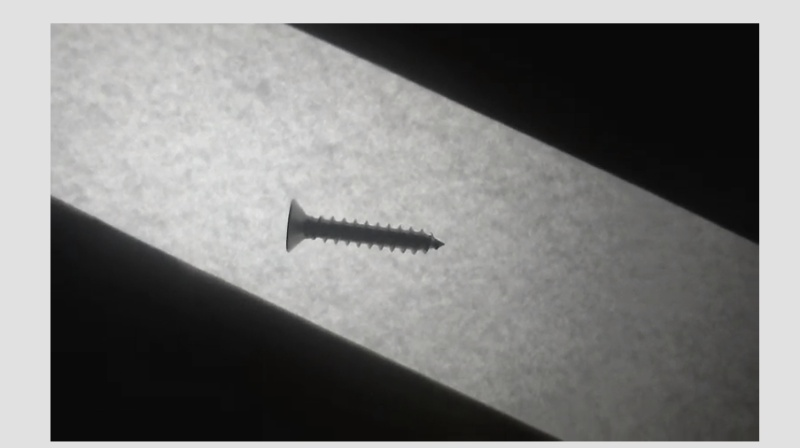S001: (283, 197, 450, 255)
